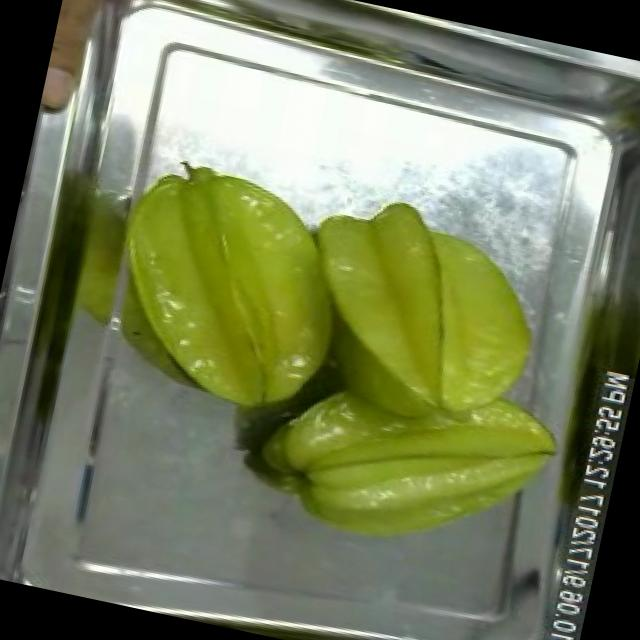fruit: (240, 182, 578, 586), (83, 146, 372, 438), (35, 0, 157, 140)
